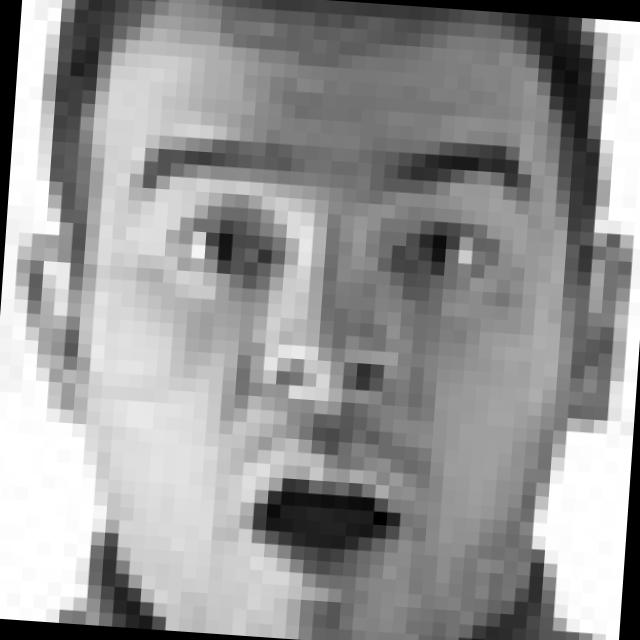surprise: (92, 106, 543, 614)
